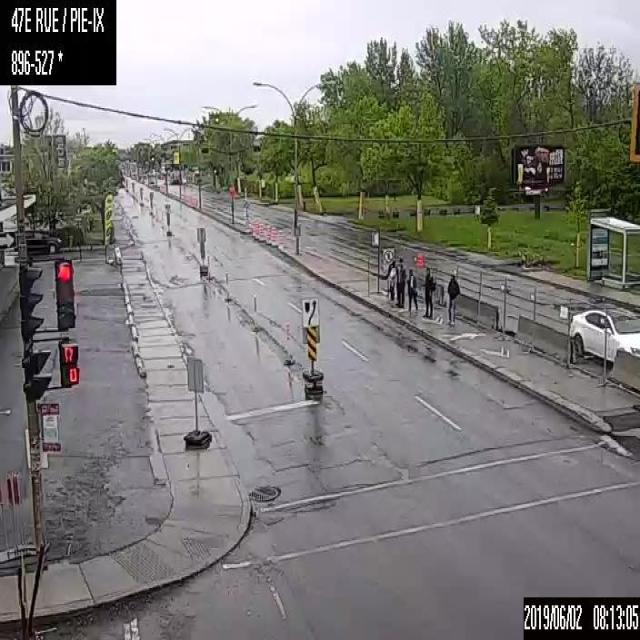construction: (282, 321, 293, 365), (252, 294, 260, 331), (224, 270, 230, 300), (278, 228, 284, 250), (258, 221, 264, 242), (270, 226, 276, 246), (206, 252, 210, 280), (265, 223, 270, 243), (253, 220, 258, 238)
pedestrian: (421, 267, 435, 317), (446, 273, 459, 324), (396, 253, 407, 306), (385, 256, 396, 300), (407, 264, 417, 310)
vehicle: (567, 306, 639, 362), (22, 230, 61, 252)
